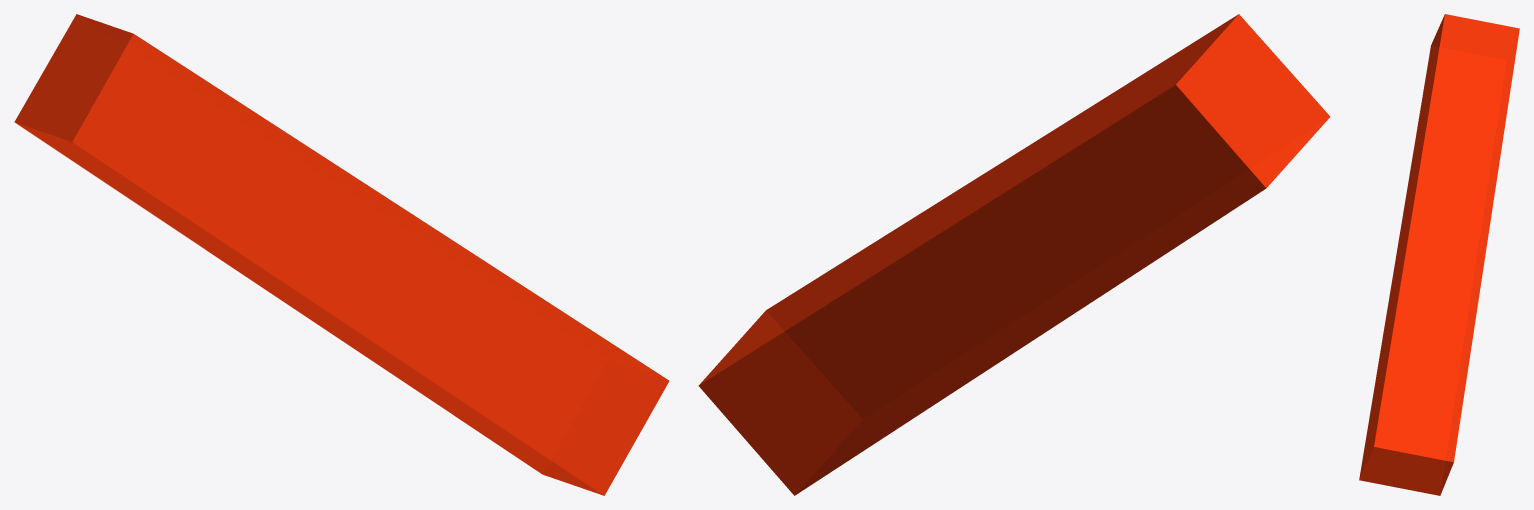
File: Event_421556567_EBrechit_25.fbx
3 views of the same model, side by side, from view 1: azimuth 30°, elevation 25°; view 2: azimuth 150°, elevation 25°; view 3: azimuth 270°, elevation 25° (orthographic). The views are drawn at different scales.
Visible parts, largest first — view 1: Model; view 2: Model; view 3: Model.
Part boxes in pixels (<box>): Model: <box>14,14,669,495</box>; Model: <box>698,14,1330,495</box>; Model: <box>1359,14,1519,495</box>.
Size of the model in its own units: 0.3029 by 0.2807 by 0.1161.
